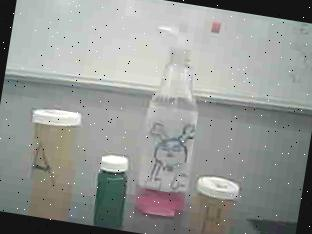Bottle A: (12, 104, 94, 223)
Bottle B: (186, 163, 249, 234)
Bottle C: (86, 148, 138, 230)
hazard: (127, 12, 225, 226)
